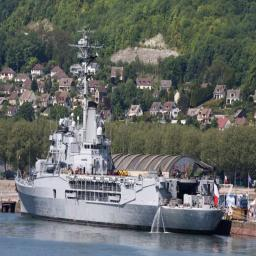Portanaves: (13, 23, 228, 236)
